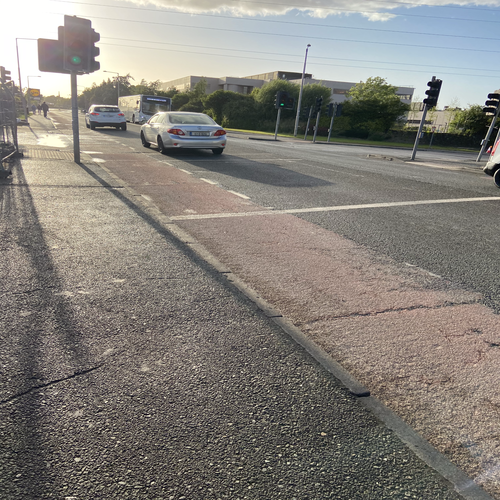Car: (141, 112, 228, 156), (84, 103, 129, 136)
Traffic Light: (60, 14, 103, 76), (424, 77, 441, 109), (485, 89, 500, 117), (274, 89, 290, 111)
